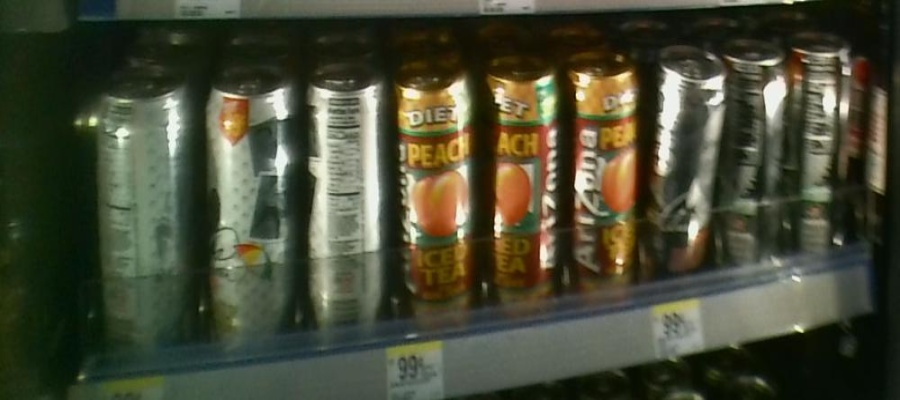bottle: (92, 71, 200, 368), (202, 49, 300, 358), (302, 50, 387, 341), (391, 51, 475, 319), (476, 50, 561, 314), (645, 42, 724, 290), (564, 50, 638, 308), (725, 25, 788, 280), (789, 24, 850, 271)
